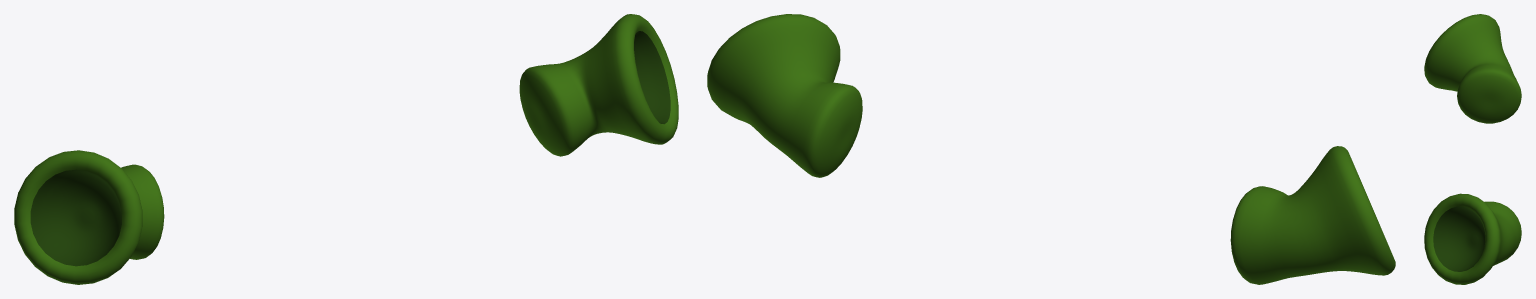
The model's file is ogre-ears.glb.
3 views of the same model, side by side, from view 1: azimuth 30°, elevation 25°; view 2: azimuth 150°, elevation 25°; view 3: azimuth 270°, elevation 25° (orthographic). The views are drawn at different scales.
Visible parts, largest first — view 1: ogre_ears, ogre_ears_inside; view 2: ogre_ears; view 3: ogre_ears, ogre_ears_inside.
Boxes of the visible parts, left/top/right/bottom form: ogre_ears: left=14, top=14, right=678, bottom=284; ogre_ears_inside: left=30, top=31, right=670, bottom=266; ogre_ears: left=707, top=14, right=1395, bottom=284; ogre_ears: left=1424, top=14, right=1521, bottom=284; ogre_ears_inside: left=1433, top=206, right=1485, bottom=271.
Bounding box in the file's own units: 1.91 × 0.3553 × 0.3626.
